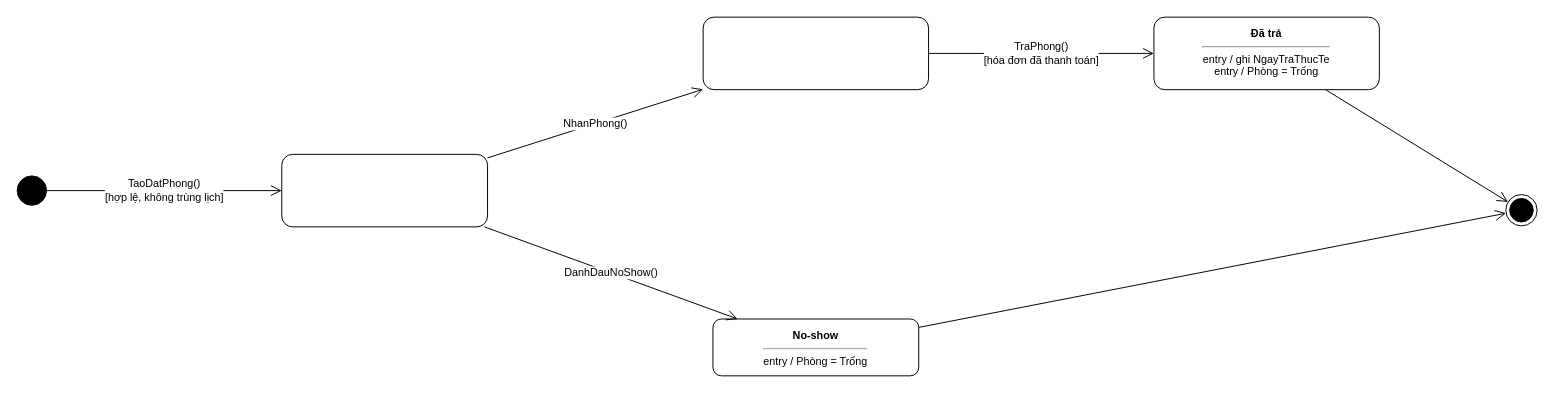
The diagram is 1554 pixels wide and 393 high, and some of its shapes have lost their labels. The shapes that lost their labels are listed below. From the top down, each one's box as (x1, y1, x2, y2) in pixels, then its label:
(702, 16, 929, 90): Đang ở entry / ghi NgayNhanThucTe entry / Phòng = Đang ở
(281, 153, 488, 227): Đã đặt entry / lưu chi tiết phòng entry / Phòng = Đã đặt
